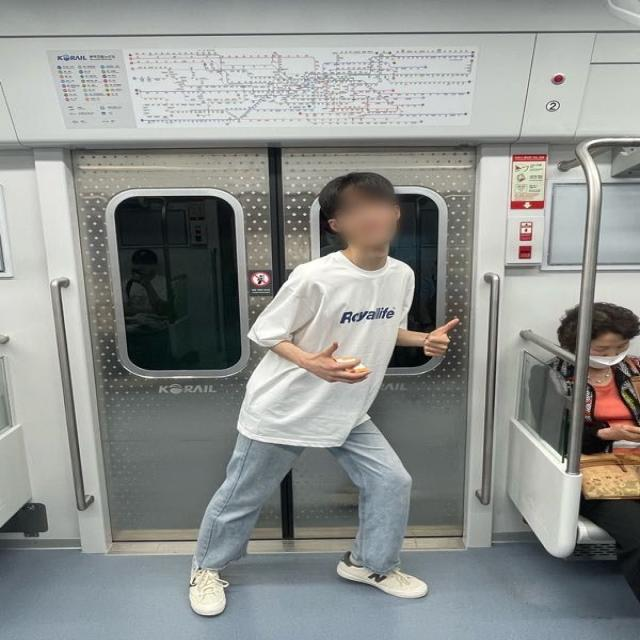denimpants: (196, 416, 418, 579)
shortsleeve: (234, 245, 416, 446)
